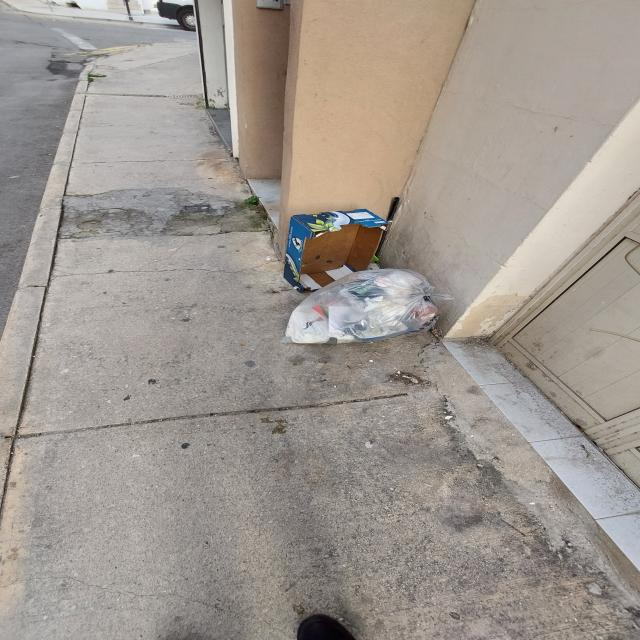Organic Waste -White Bag-: (284, 270, 442, 348)
